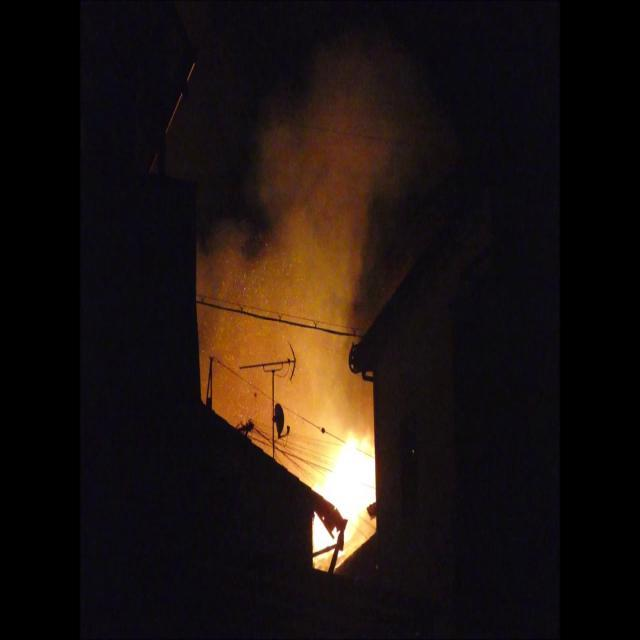Fire: (314, 416, 378, 546)
Smoke: (198, 20, 426, 450)
